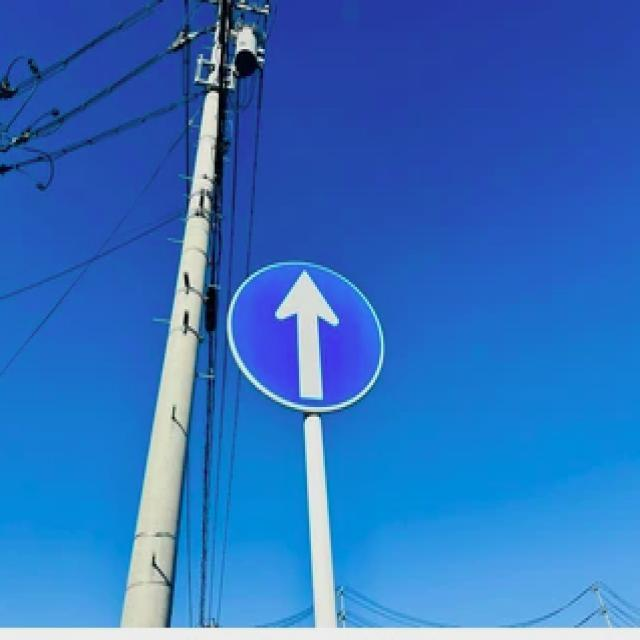STRAIGHT: (227, 265, 383, 407)
